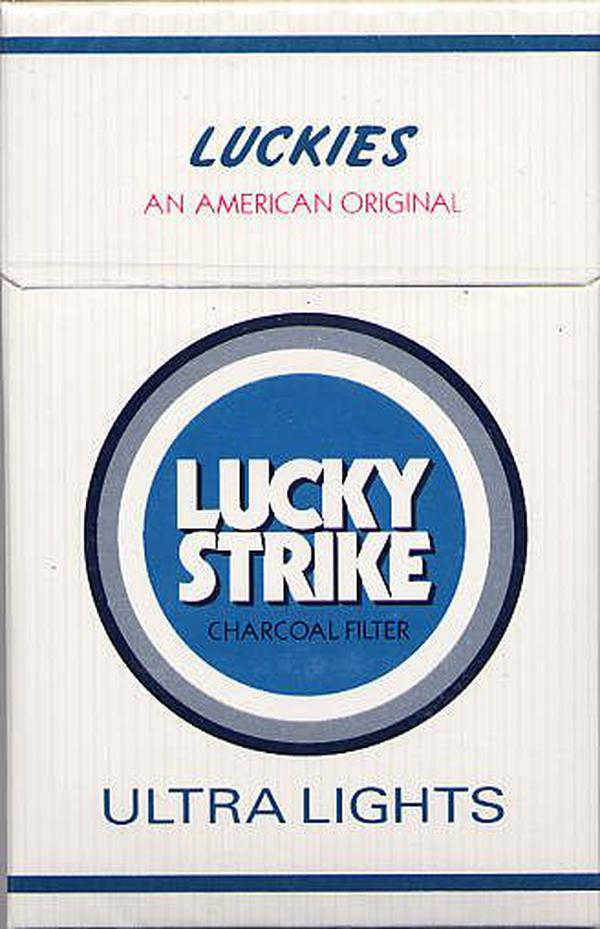lucky_strike_blue: (4, 3, 600, 916)
